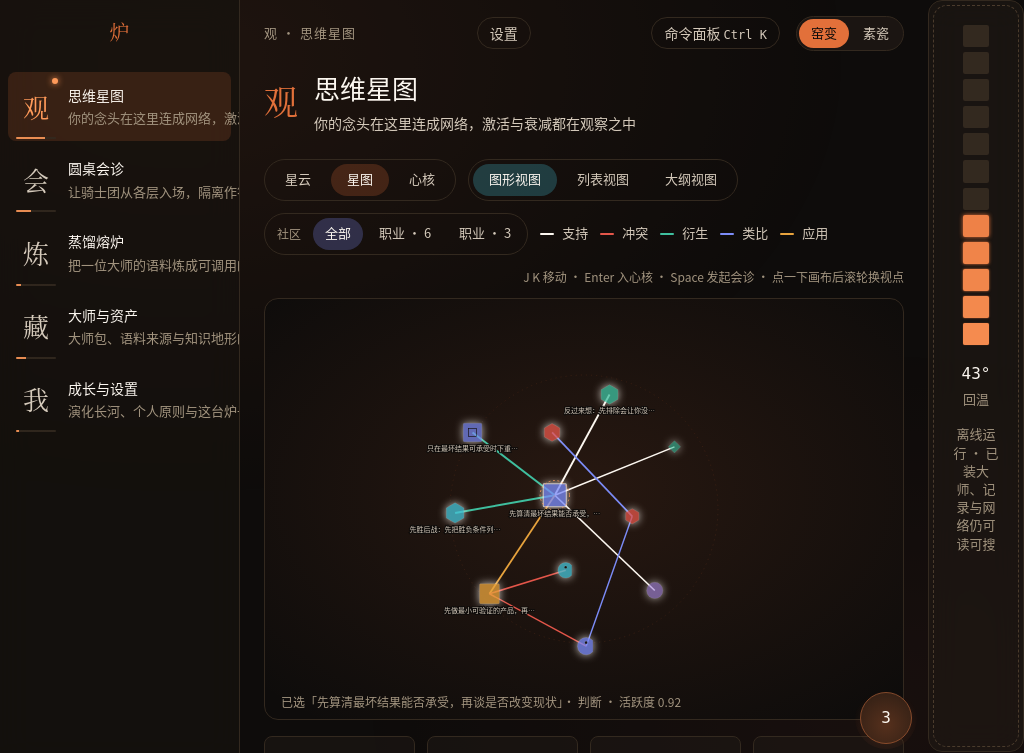
Test: 应用外壳 › 切换境界只换主体内容
Click the button "会 圆桌会诊 让骑士团从各层入场，隔离作答后再交叉质询". click: (120, 180)
box: [8,145,231,214]
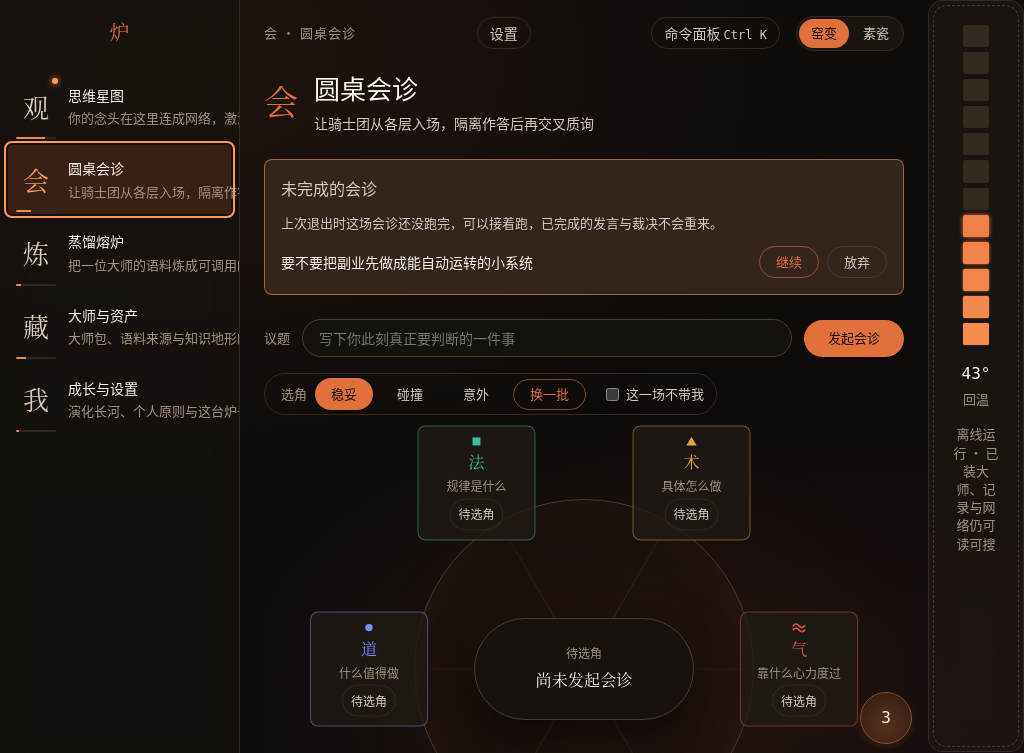
Check: the heading "圆桌会诊" is shown, box [314,69,418,106]
